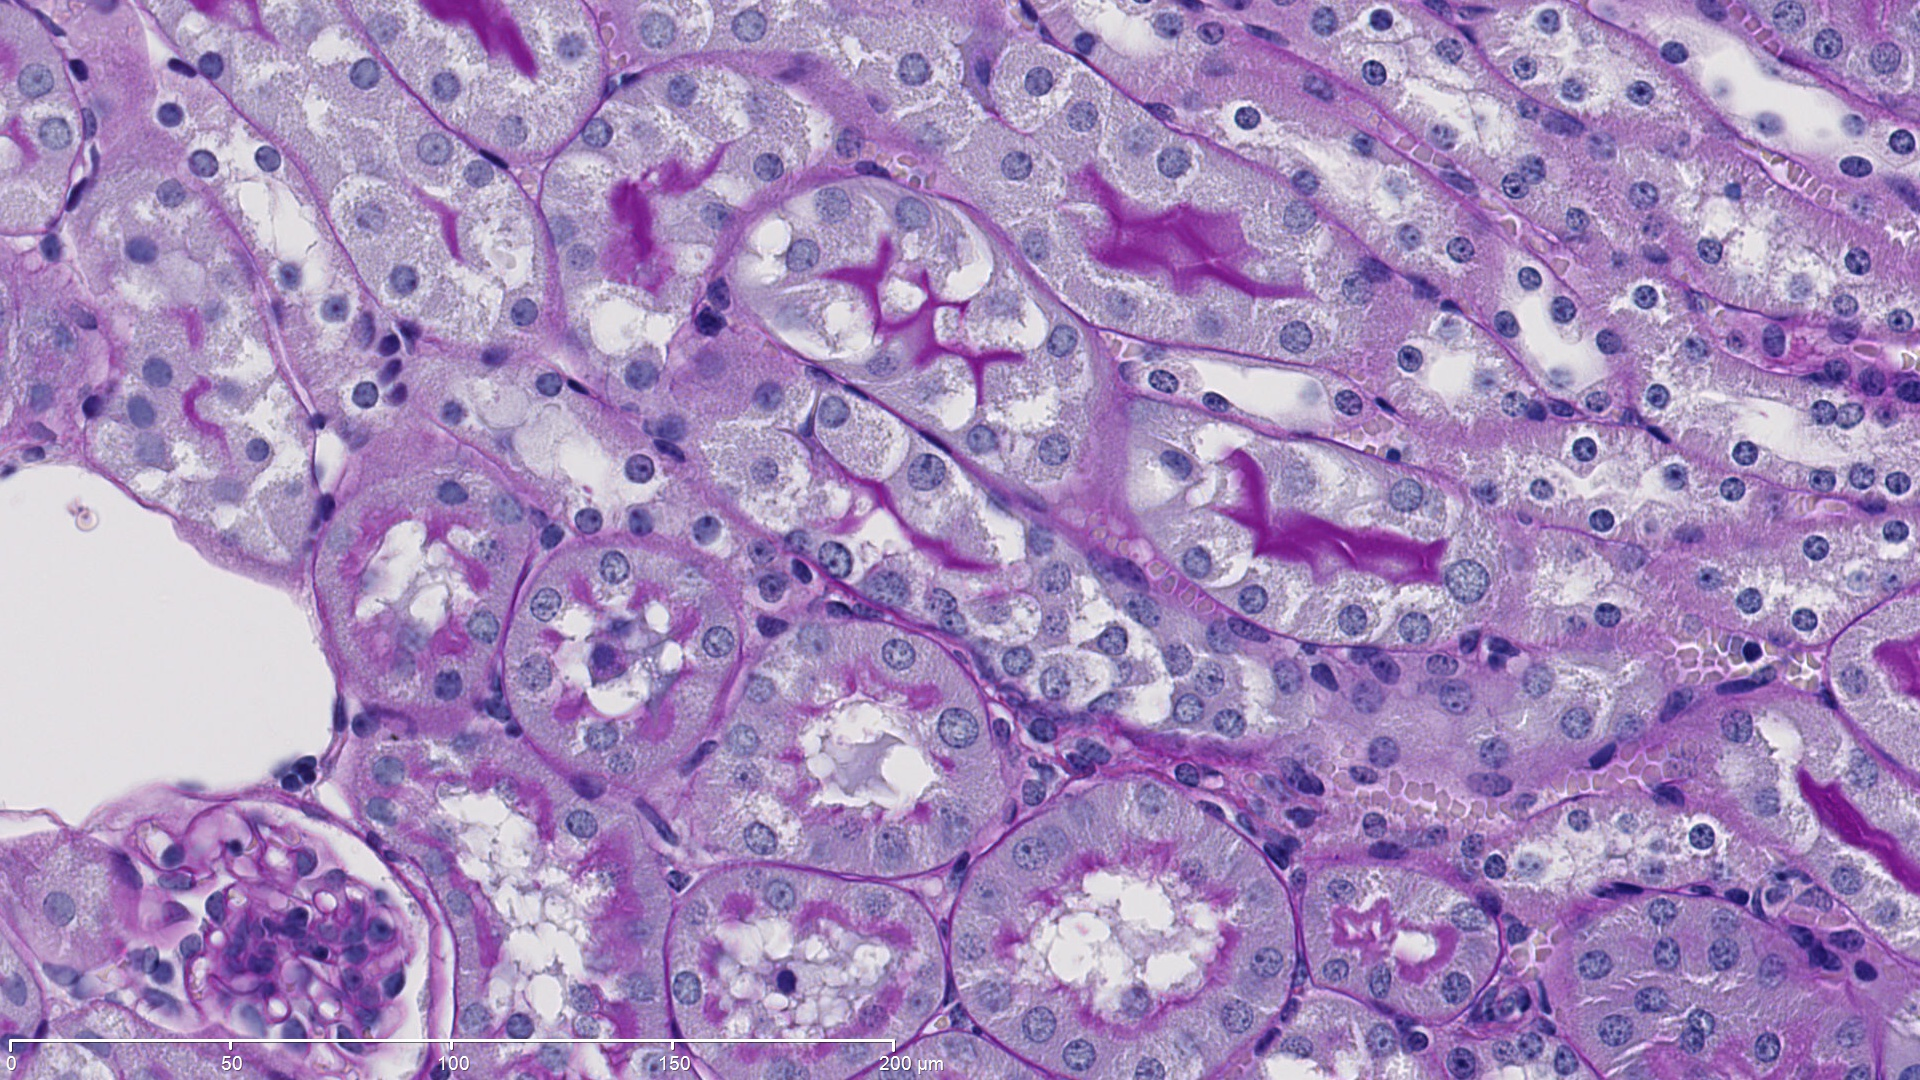Glomeruli: (167, 820, 430, 1058)
